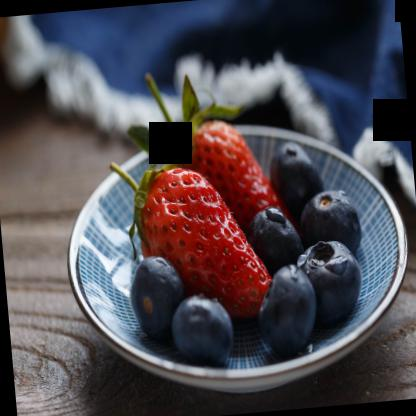blueberry: (296, 242, 364, 329), (256, 265, 318, 354), (172, 289, 232, 370), (131, 252, 186, 338), (298, 192, 364, 262), (270, 142, 322, 210), (250, 206, 303, 268)
strawberry: (130, 157, 275, 324), (156, 110, 284, 242)
